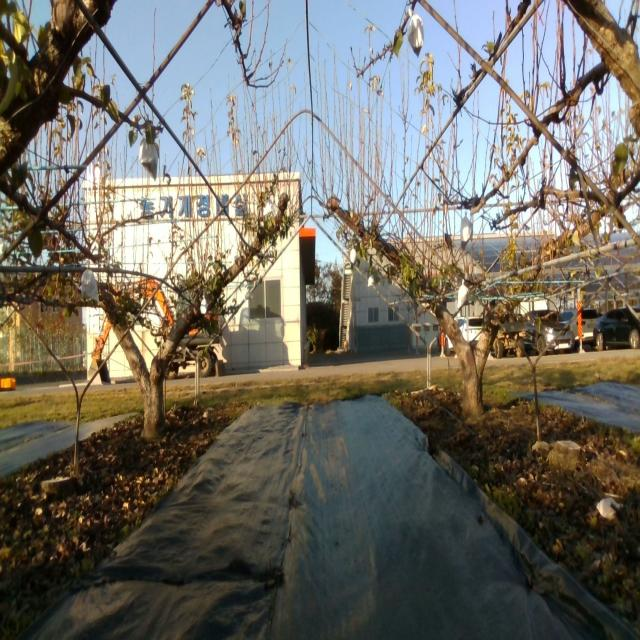pearbags: (140, 140, 158, 182), (408, 8, 423, 56), (81, 269, 99, 308), (459, 212, 473, 251), (458, 278, 470, 308)
